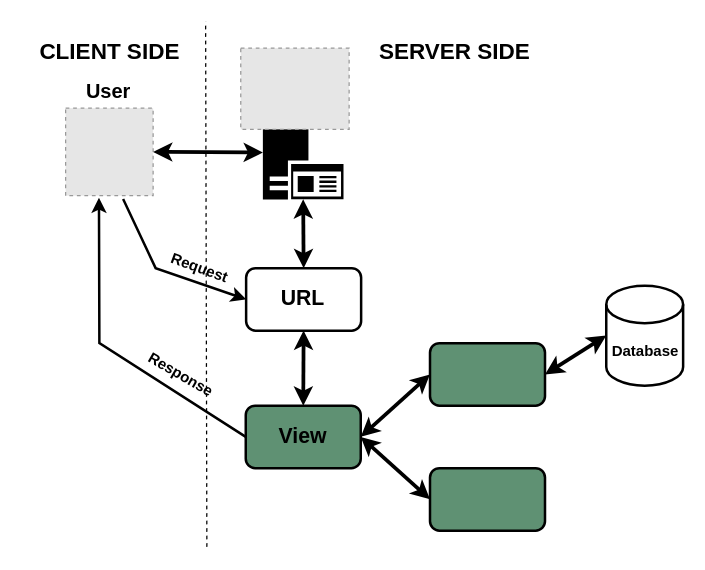
Image size: 705x570. Some labels were removed from this diagram. Grey dashed boxes stand in for pictures. The shapes that lost their labels are listed below. From the top down, each one's centre as x and y in pixels, then its label:
the point at 487,373: Model
the point at 487,498: Template
